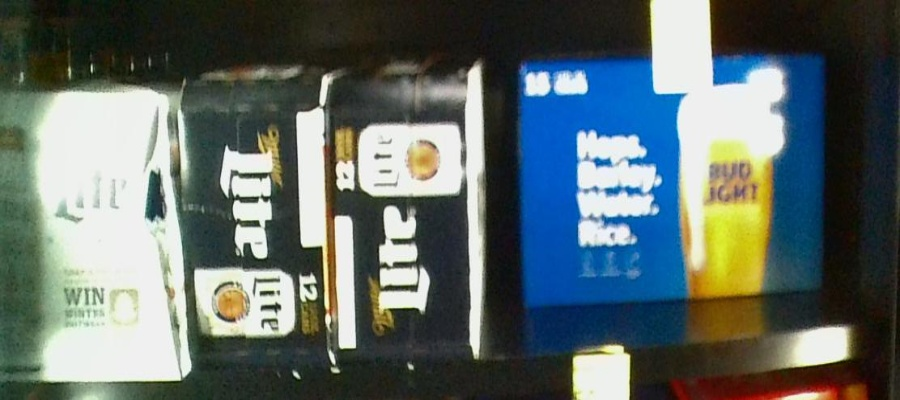bottle: (517, 57, 829, 303), (1, 88, 187, 383), (177, 72, 330, 366), (329, 73, 485, 360)
